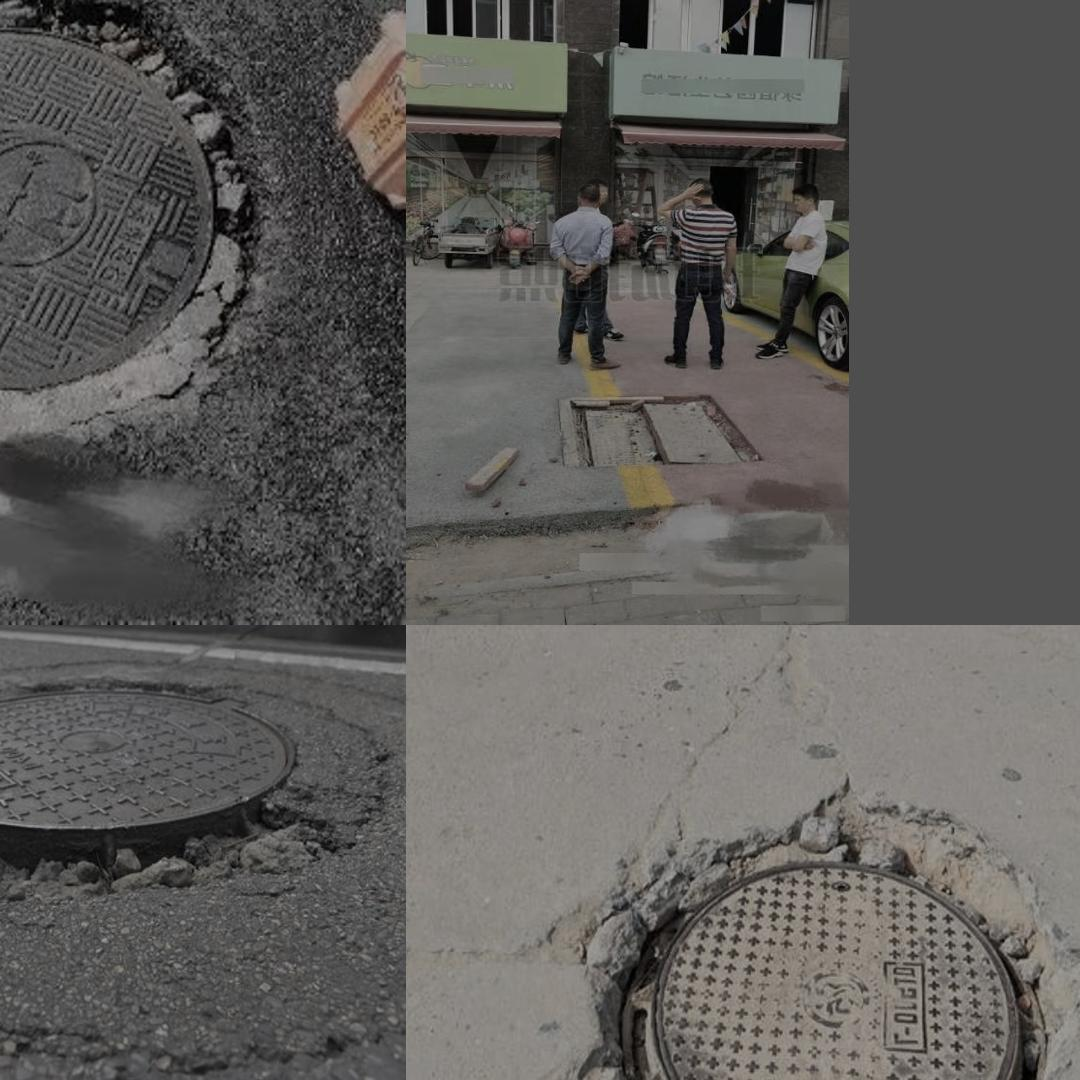circle: (548, 783, 1080, 1080), (0, 0, 257, 460), (0, 668, 385, 917), (559, 395, 754, 470)
